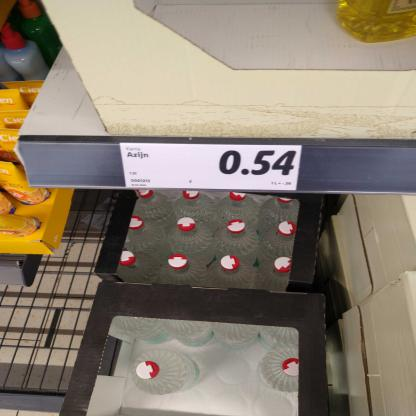prtg: (121, 144, 303, 192)
